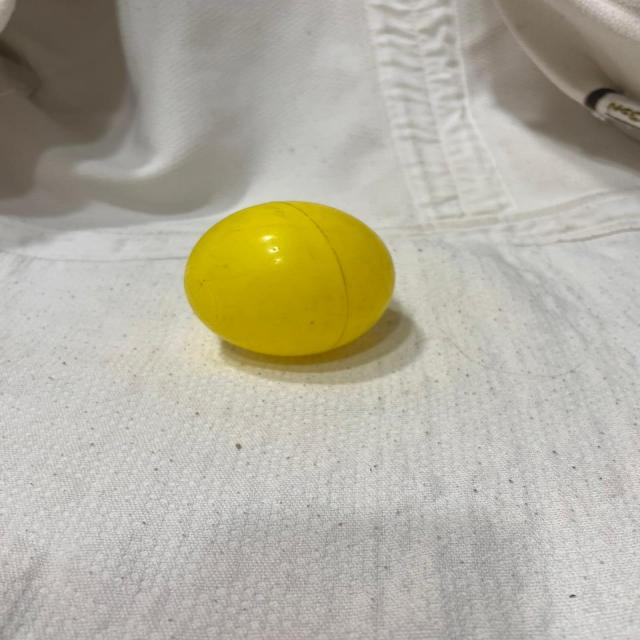ball: (180, 195, 400, 358)
